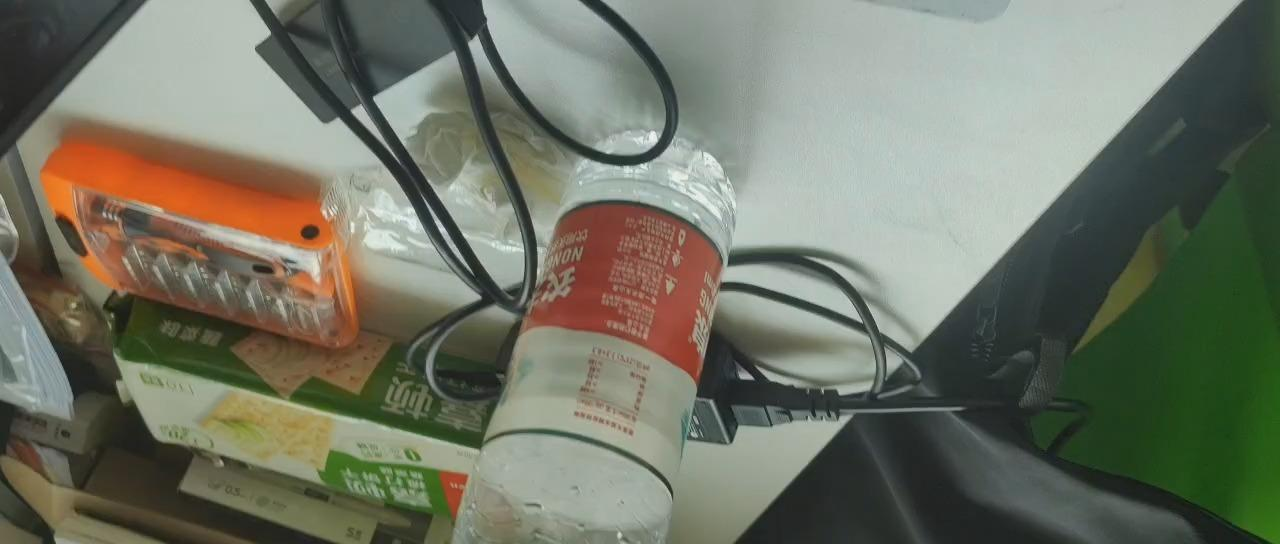BIODEGRADABLE: (450, 123, 743, 544)
